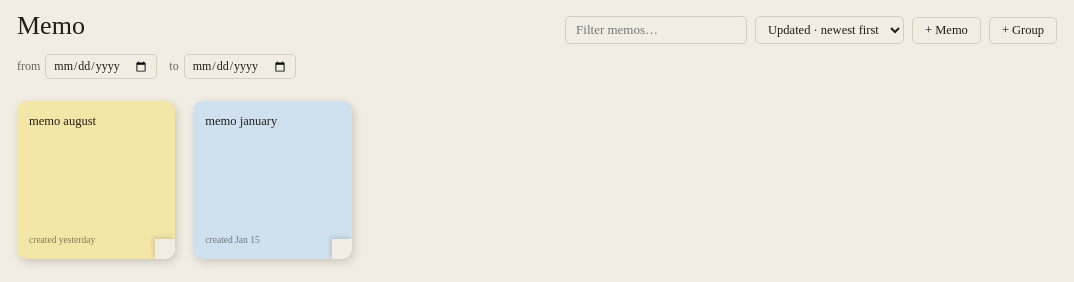
Test: NotesPage date range › says so when the range excludes everything
The width and height of the screenshot is (1074, 282).
Type "2027-01-01" into the date field labelled "from". click: [101, 66]
box: [45,54,157,79]
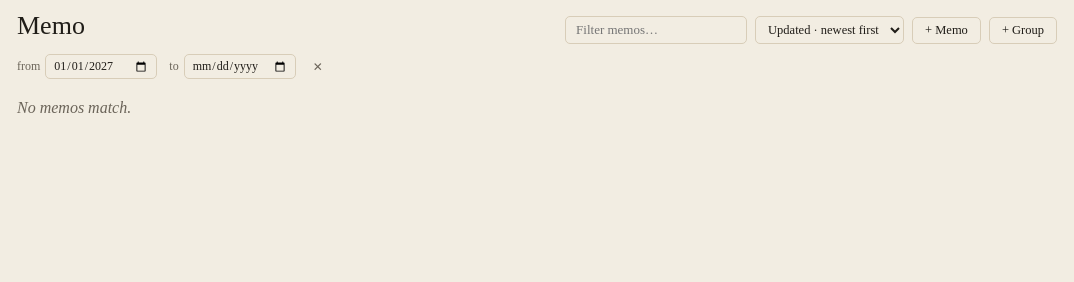
expect the text "No memos match." is shown: met, box [17,99,131,116]
